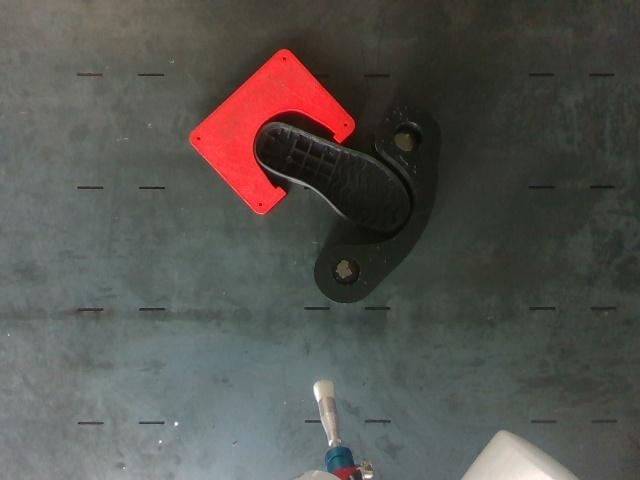shoes: (256, 123, 409, 229)
